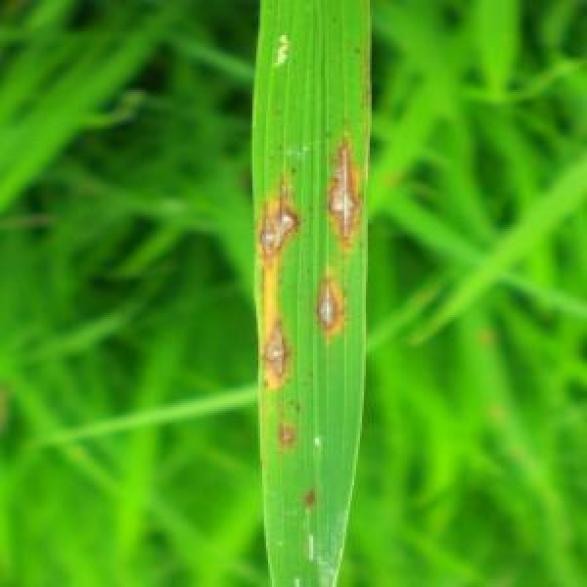Leaf_smut: (300, 120, 393, 247), (252, 182, 308, 270), (301, 252, 356, 340), (254, 311, 296, 389)
